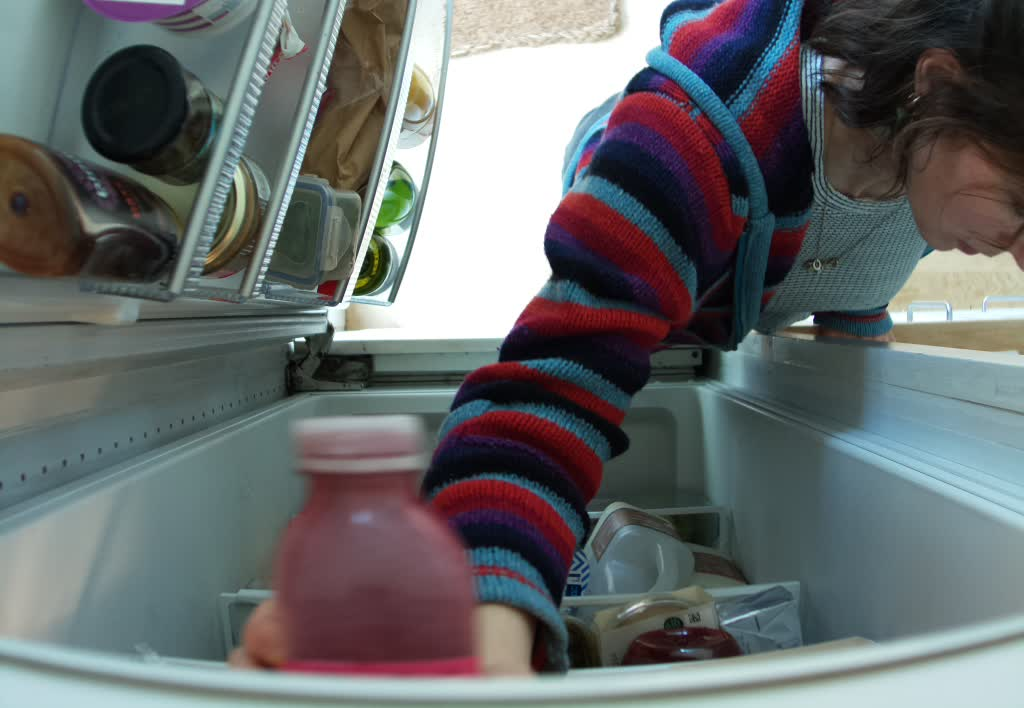juice: (270, 410, 501, 684)
